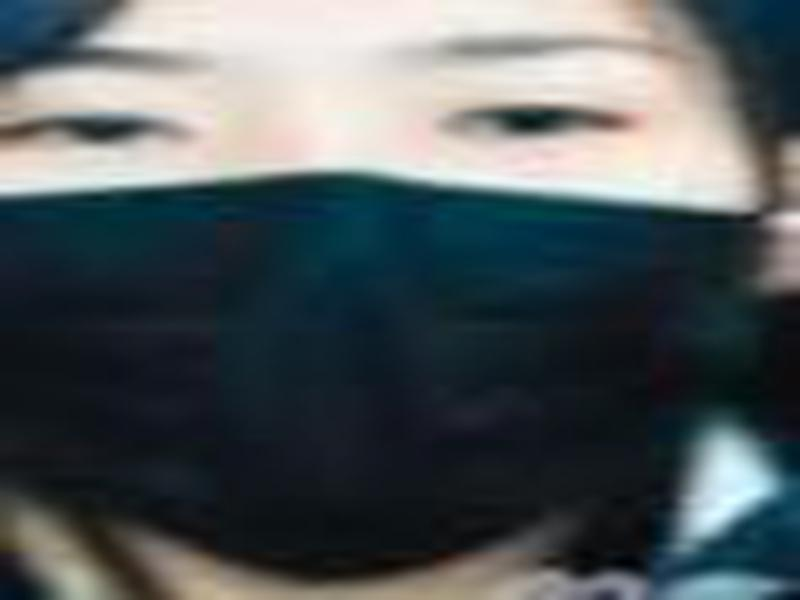with_mask: (1, 1, 788, 591)
